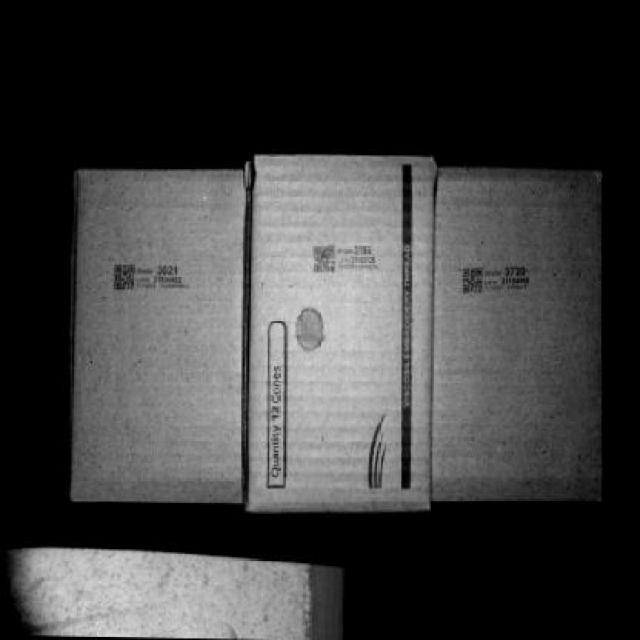cardboxes: (252, 158, 443, 518), (72, 164, 251, 498), (440, 177, 609, 506)
